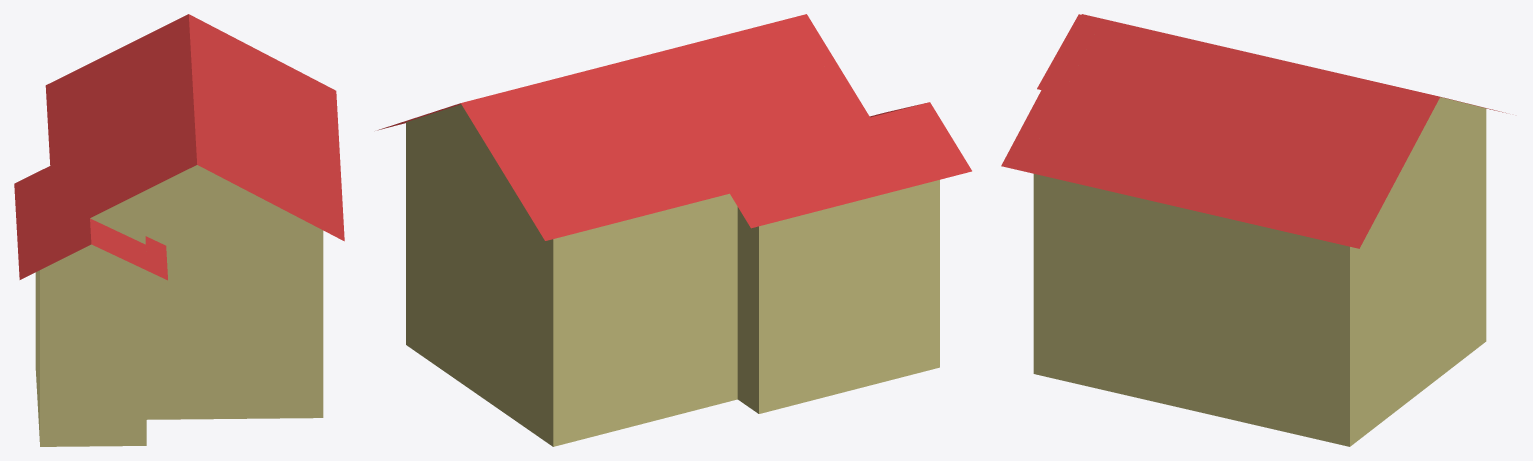
The picture shows the model from 3 angles, left to right: view 1: azimuth 30°, elevation 25°; view 2: azimuth 150°, elevation 25°; view 3: azimuth 270°, elevation 25°; orthographic projection. The views are drawn at different scales.
Parts seen in each view (by area): view 1: group_5, group_3, group_9, group_4, group_7; view 2: group_5, group_3, group_4; view 3: group_5, group_3, group_4.
Boxes of the visible parts, left/top/right/bottom form: group_5: left=35, top=165, right=323, bottom=446; group_3: left=21, top=14, right=344, bottom=279; group_9: left=91, top=244, right=146, bottom=446; group_4: left=14, top=14, right=344, bottom=279; group_7: left=90, top=218, right=167, bottom=280; group_5: left=406, top=104, right=939, bottom=446; group_3: left=461, top=14, right=971, bottom=240; group_4: left=377, top=15, right=971, bottom=228; group_5: left=1033, top=97, right=1486, bottom=446; group_3: left=1002, top=19, right=1439, bottom=248; group_4: left=1001, top=14, right=1506, bottom=191.
Bounding box in the file's own units: 17.46 × 16.21 × 10.41.
